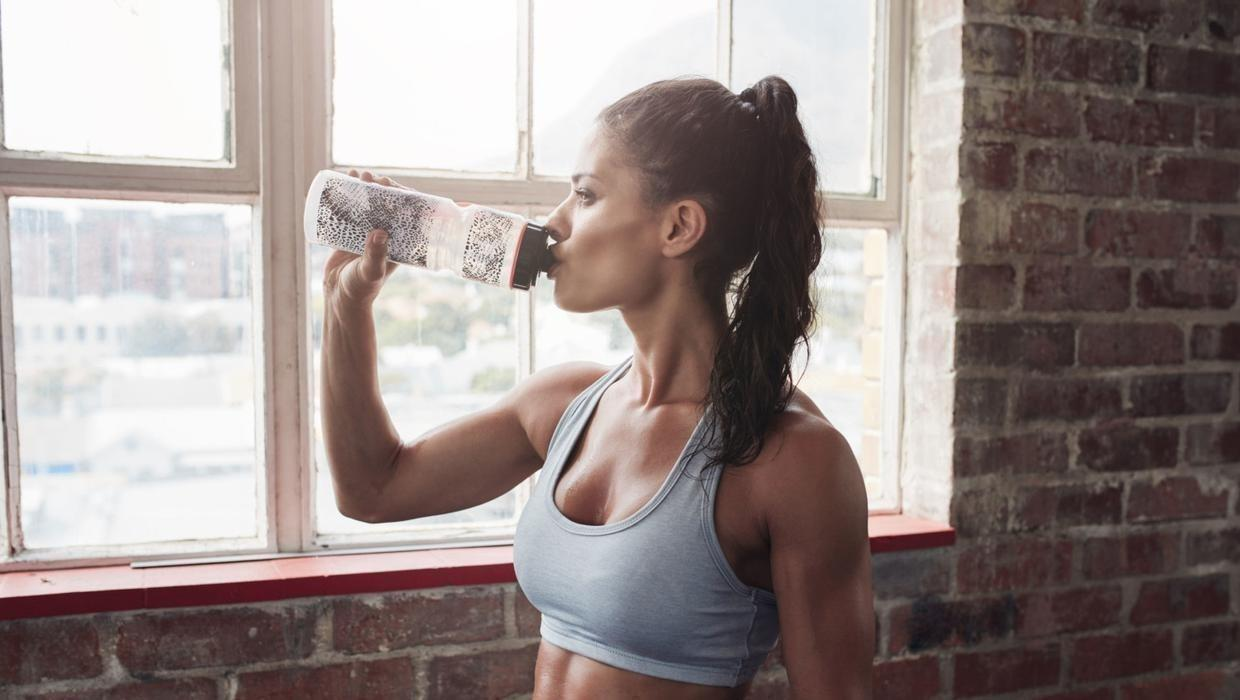gym bottle: (299, 165, 550, 294)
